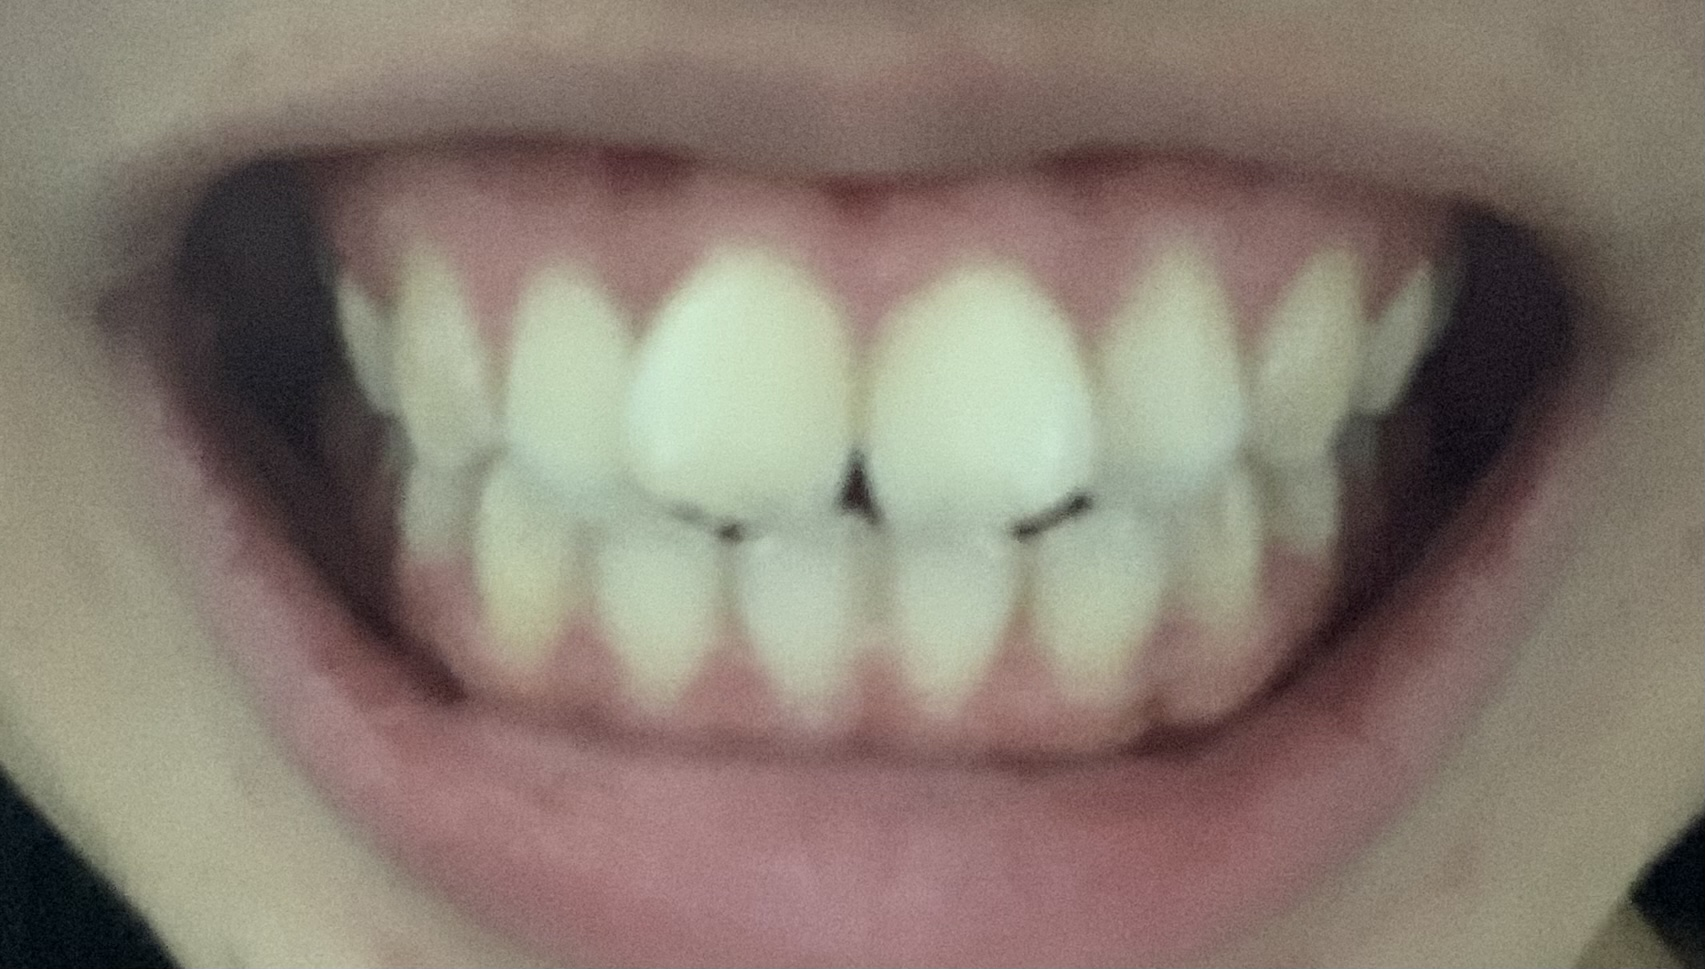teeth: (871, 253, 1096, 530), (630, 245, 854, 514), (1101, 238, 1249, 480), (507, 271, 643, 477), (1025, 511, 1166, 708), (388, 246, 502, 466), (1258, 253, 1369, 465), (484, 465, 590, 677), (888, 530, 1014, 708), (742, 524, 856, 712), (604, 527, 721, 707)
